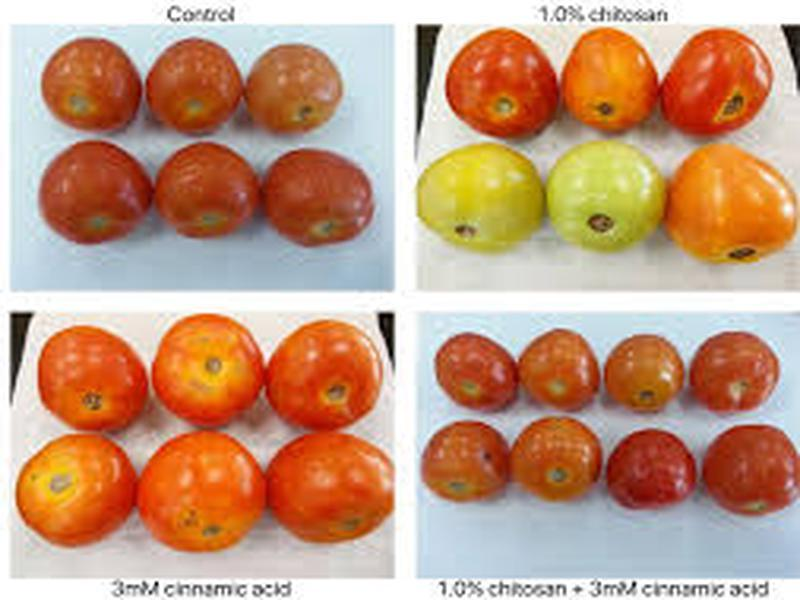full_tomato: (127, 421, 273, 564), (270, 432, 410, 576), (261, 314, 398, 445), (137, 306, 271, 431), (11, 431, 147, 553), (24, 314, 150, 443), (260, 140, 386, 269), (150, 141, 275, 259), (33, 23, 154, 137), (39, 141, 155, 252), (241, 44, 355, 147), (683, 324, 800, 423), (420, 322, 530, 422), (147, 41, 250, 144), (696, 419, 800, 512), (522, 322, 616, 418)
